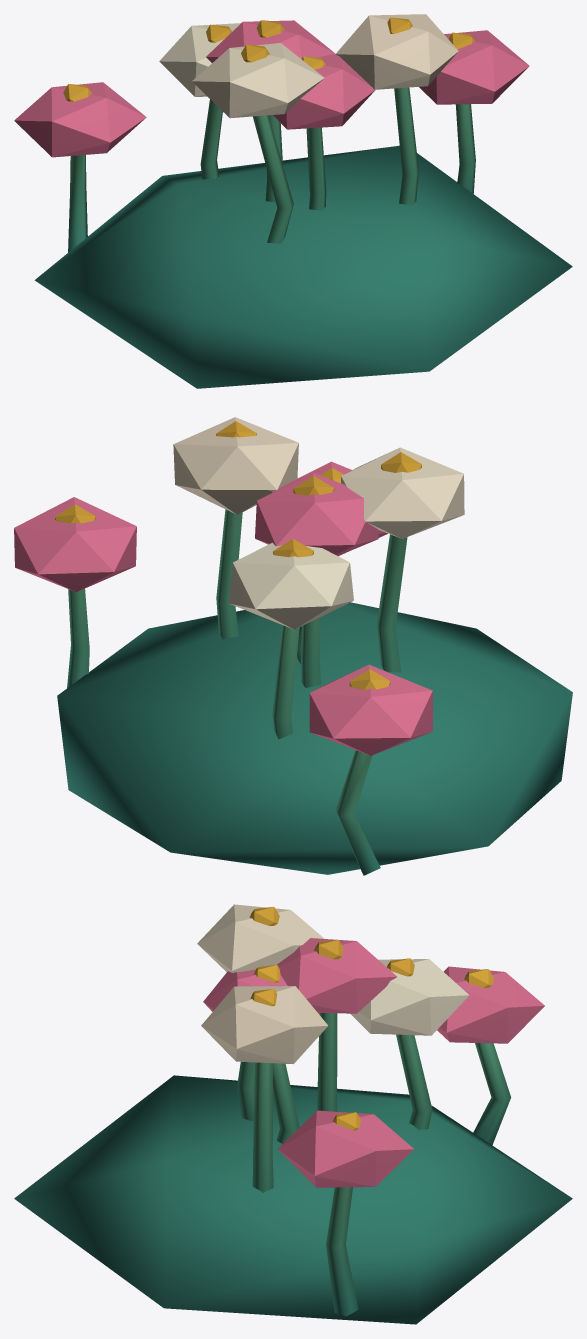
Rendered from flowers_pink.glb.
3 renders of one model, top to bottom at view 1: azimuth 30°, elevation 25°; view 2: azimuth 150°, elevation 25°; view 3: azimuth 270°, elevation 25°, orthographic. The views are drawn at different scales.
Visible parts, largest first — view 1: flowers_pink; view 2: flowers_pink; view 3: flowers_pink.
Part boxes in pixels (box(x1,y1,x2,y2)): flowers_pink: box(14, 14, 572, 388); flowers_pink: box(14, 417, 572, 875); flowers_pink: box(14, 904, 572, 1324).
Size of the model in its own units: 0.9806 by 0.6634 by 1.02.
